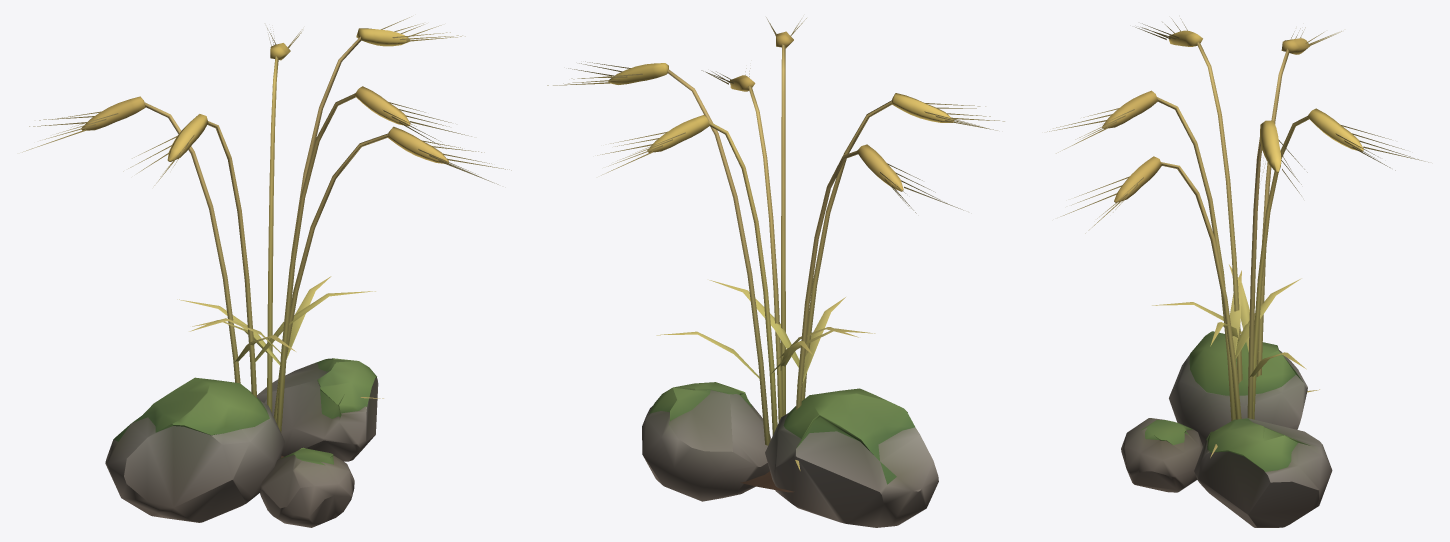
Rendered from wild_grain.glb.
3 views of the same model, side by side, from view 1: azimuth 30°, elevation 25°; view 2: azimuth 150°, elevation 25°; view 3: azimuth 270°, elevation 25° (orthographic).
Parts seen in each view (by area): view 1: WildGrain; view 2: WildGrain; view 3: WildGrain.
Boxes of the visible parts, x1,y1,x2,y2 form: WildGrain: [22, 16, 511, 527]; WildGrain: [547, 17, 1004, 527]; WildGrain: [1047, 18, 1428, 527].
Size of the model in its own units: 0.7901 by 0.7422 by 0.6332.
